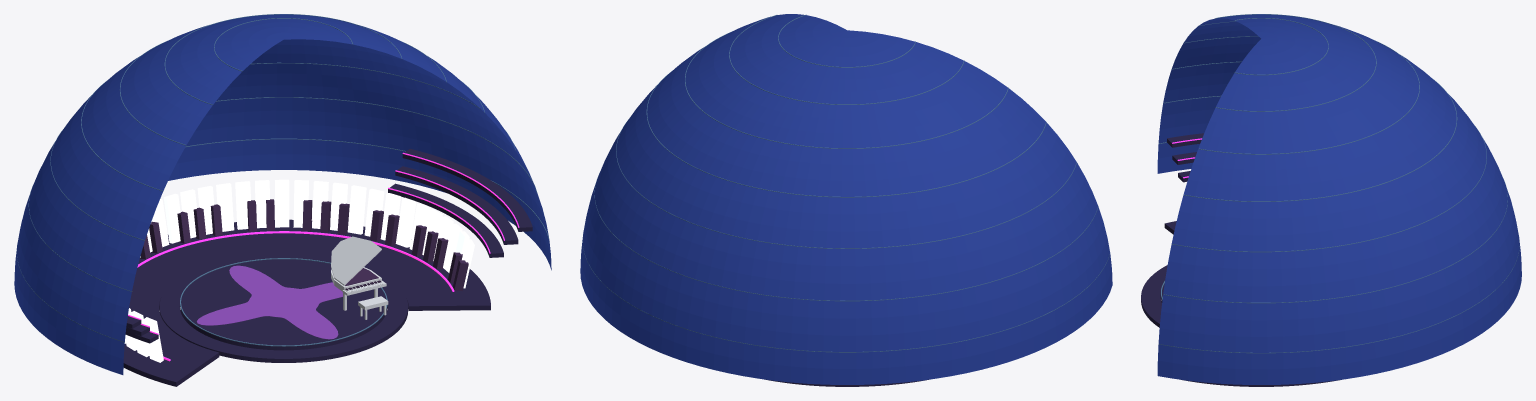
Rendered from keyring-material.glb.
The picture shows the model from 3 angles, left to right: view 1: azimuth 30°, elevation 25°; view 2: azimuth 150°, elevation 25°; view 3: azimuth 270°, elevation 25°; orthographic projection. The views are drawn at different scales.
Visible parts, largest first — view 1: finite-media-surface-unresolved, stage-outer-floor, stage-central-solid, stage-step-ring, four-point-concave-floor-inlay, upper-terrace-1-2, upper-terrace-1-1, upper-terrace-1-0, piano-open-lid, key-pink-ring, white-key-27, inner-luminous-rim (+18 smaller); view 2: finite-media-surface-unresolved, media-grid-lat-05, media-grid-lat-08, media-grid-lat-11, media-grid-lat-02, media-grid-lat-14; view 3: finite-media-surface-unresolved, stage-step-ring, media-grid-lat-08, media-grid-lat-05, media-grid-lat-11, media-grid-lat-02, media-grid-lat-14, media-grid-lat-17, stage-outer-floor, upper-terrace--1-2.
Part boxes in pixels (x1=…): finite-media-surface-unresolved: x1=14, y1=14, x2=551, y2=374; stage-outer-floor: x1=123, y1=219, x2=490, y2=386; stage-central-solid: x1=180, y1=259, x2=387, y2=350; stage-step-ring: x1=159, y1=254, x2=408, y2=362; four-point-concave-floor-inlay: x1=197, y1=265, x2=342, y2=339; upper-terrace-1-2: x1=402, y1=148, x2=532, y2=231; upper-terrace-1-1: x1=395, y1=166, x2=518, y2=244; upper-terrace-1-0: x1=388, y1=183, x2=503, y2=257; piano-open-lid: x1=331, y1=236, x2=381, y2=285; key-pink-ring: x1=137, y1=231, x2=454, y2=361; white-key-27: x1=347, y1=185, x2=366, y2=234; inner-luminous-rim: x1=180, y1=258, x2=387, y2=346; finite-media-surface-unresolved: x1=580, y1=14, x2=1112, y2=384; media-grid-lat-05: x1=594, y1=173, x2=1098, y2=301; media-grid-lat-08: x1=616, y1=119, x2=1076, y2=248; media-grid-lat-11: x1=646, y1=71, x2=1046, y2=197; media-grid-lat-02: x1=582, y1=234, x2=1110, y2=352; media-grid-lat-14: x1=685, y1=31, x2=1008, y2=148; finite-media-surface-unresolved: x1=1157, y1=14, x2=1521, y2=384; stage-step-ring: x1=1141, y1=265, x2=1167, y2=327; media-grid-lat-08: x1=1171, y1=61, x2=1486, y2=252; media-grid-lat-05: x1=1163, y1=96, x2=1507, y2=303; media-grid-lat-11: x1=1183, y1=36, x2=1457, y2=201; media-grid-lat-02: x1=1159, y1=142, x2=1519, y2=353; media-grid-lat-14: x1=1198, y1=21, x2=1419, y2=154; media-grid-lat-17: x1=1215, y1=14, x2=1376, y2=111; stage-outer-floor: x1=1164, y1=221, x2=1341, y2=386; upper-terrace--1-2: x1=1167, y1=133, x2=1203, y2=147.
Size of the model in its own units: 25.99 by 14.5 by 19.
